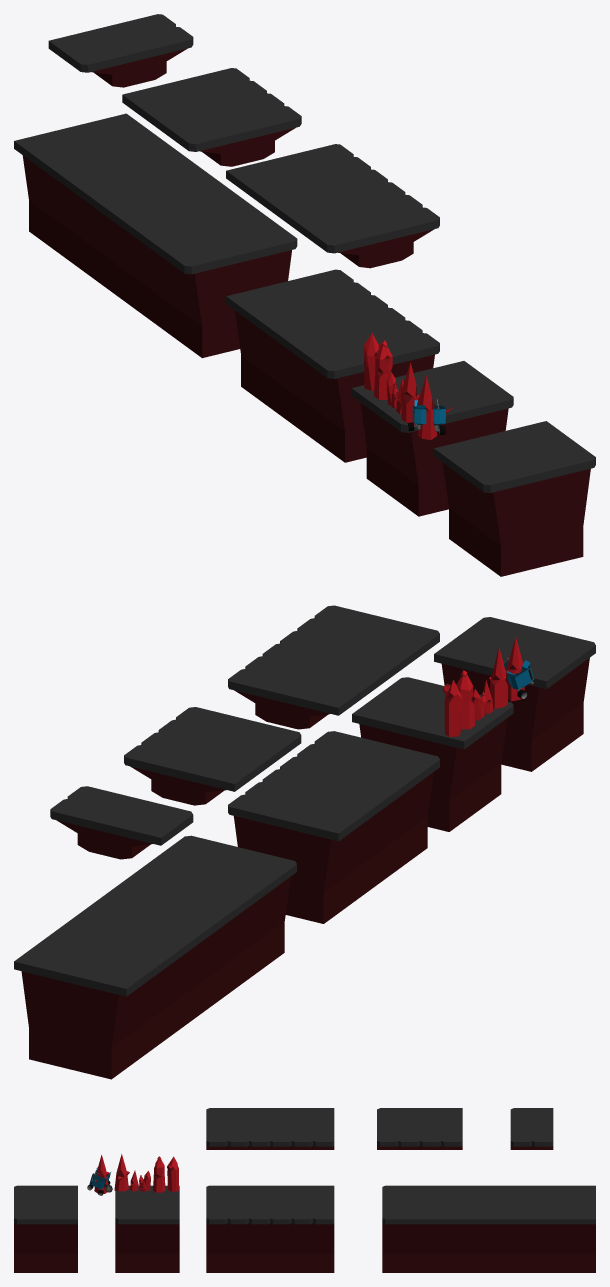
File: RedGround.fbx
The picture shows the model from 3 angles, top to bottom: view 1: azimuth 30°, elevation 25°; view 2: azimuth 150°, elevation 25°; view 3: azimuth 270°, elevation 25°; orthographic projection. The views are drawn at different scales.
Visible parts, largest first — view 1: Ground.003, Ground.002, Ground.007, Ground.004, Ground.001, Ground.005, Ground.006, C6, C3; view 2: Ground.003, Ground.002, Ground.004, Ground.007, Ground.001, Ground.005, Ground.006, C6, C4.001, C1, C3; view 3: Ground.003, Ground.002, Ground.007, Ground.004, Ground.001, Ground.005, Ground.006, C6, C1, C3, C4.001.
Boxes of the visible parts, x1=… form: Ground.003: x1=14, y1=113, x2=297, y2=358; Ground.002: x1=226, y1=269, x2=439, y2=462; Ground.007: x1=434, y1=421, x2=595, y2=576; Ground.004: x1=226, y1=144, x2=439, y2=268; Ground.001: x1=351, y1=361, x2=513, y2=516; Ground.005: x1=122, y1=68, x2=301, y2=166; Ground.006: x1=48, y1=14, x2=193, y2=87; C6: x1=407, y1=375, x2=453, y2=439; C3: x1=374, y1=344, x2=392, y2=399; Ground.003: x1=14, y1=835, x2=296, y2=1079; Ground.002: x1=228, y1=731, x2=439, y2=923; Ground.004: x1=228, y1=605, x2=439, y2=729; Ground.007: x1=434, y1=617, x2=595, y2=771; Ground.001: x1=352, y1=677, x2=513, y2=831; Ground.005: x1=124, y1=707, x2=301, y2=805; Ground.006: x1=50, y1=786, x2=193, y2=859; C6: x1=503, y1=636, x2=534, y2=701; C4.001: x1=444, y1=679, x2=462, y2=737; C1: x1=489, y1=647, x2=507, y2=708; C3: x1=456, y1=674, x2=474, y2=729; Ground.003: x1=382, y1=1185, x2=595, y2=1272; Ground.002: x1=206, y1=1185, x2=334, y2=1272; Ground.007: x1=14, y1=1185, x2=77, y2=1272; Ground.004: x1=206, y1=1108, x2=334, y2=1149; Ground.001: x1=115, y1=1185, x2=179, y2=1272; Ground.005: x1=377, y1=1108, x2=462, y2=1149; Ground.006: x1=510, y1=1108, x2=553, y2=1149; C6: x1=87, y1=1155, x2=112, y2=1195; C1: x1=114, y1=1154, x2=129, y2=1191; C3: x1=153, y1=1158, x2=165, y2=1192; C4.001: x1=167, y1=1156, x2=178, y2=1191.
Bounding box in the file's own units: 1547 × 2800 × 10900.
